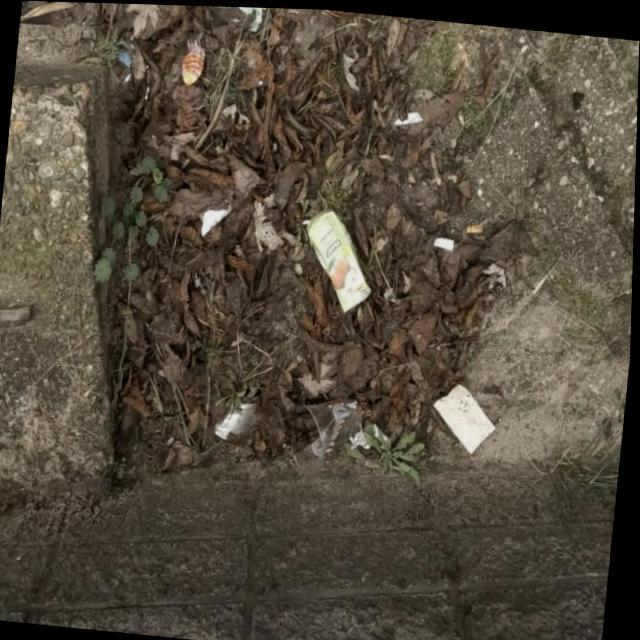Cup: (289, 391, 370, 473)
